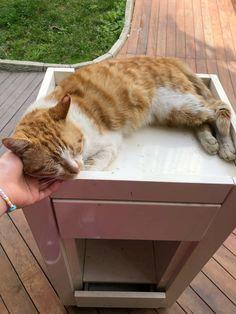kedo: (2, 55, 236, 179)
